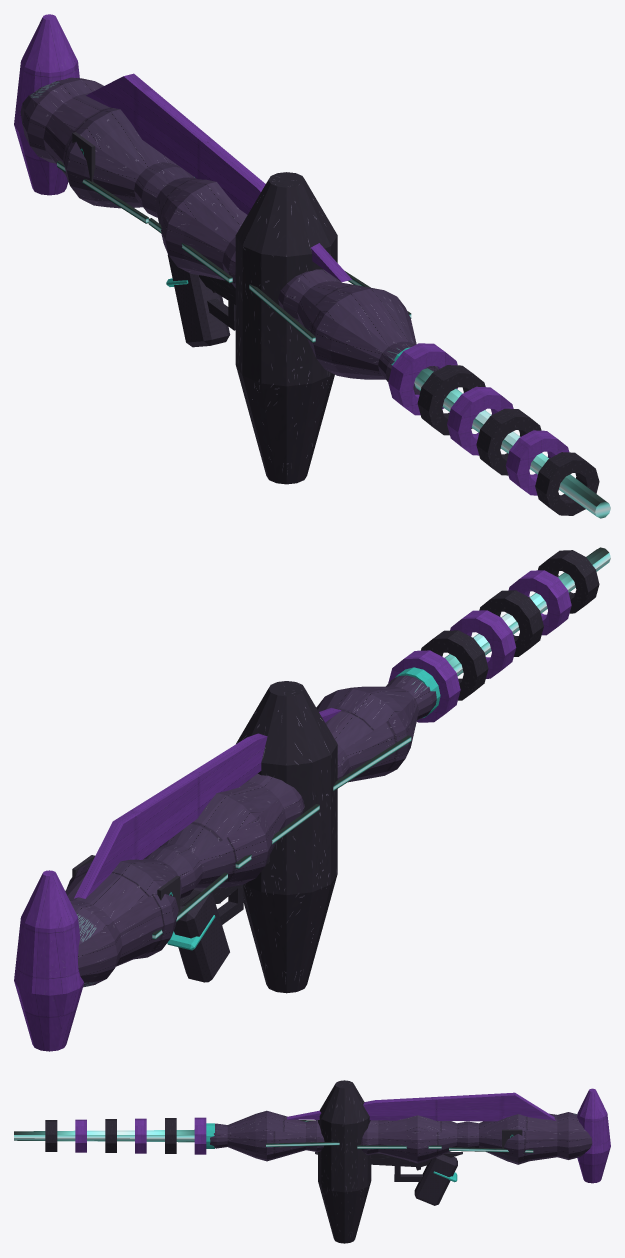
File: hlx_lmg.obj
3 renders of one model, top to bottom at view 1: azimuth 30°, elevation 25°; view 2: azimuth 150°, elevation 25°; view 3: azimuth 270°, elevation 25°, orthographic. The views are drawn at different scales.
Parts seen in each view (by area): view 1: hlx_lmg; view 2: hlx_lmg; view 3: hlx_lmg.
Part boxes in pixels (bbox=[...]): hlx_lmg: bbox=[14, 14, 610, 518]; hlx_lmg: bbox=[14, 547, 610, 1051]; hlx_lmg: bbox=[14, 1080, 610, 1243].
Size of the model in its own units: 0.1218 by 0.32 by 1.12.
1 material, 1 textured.
